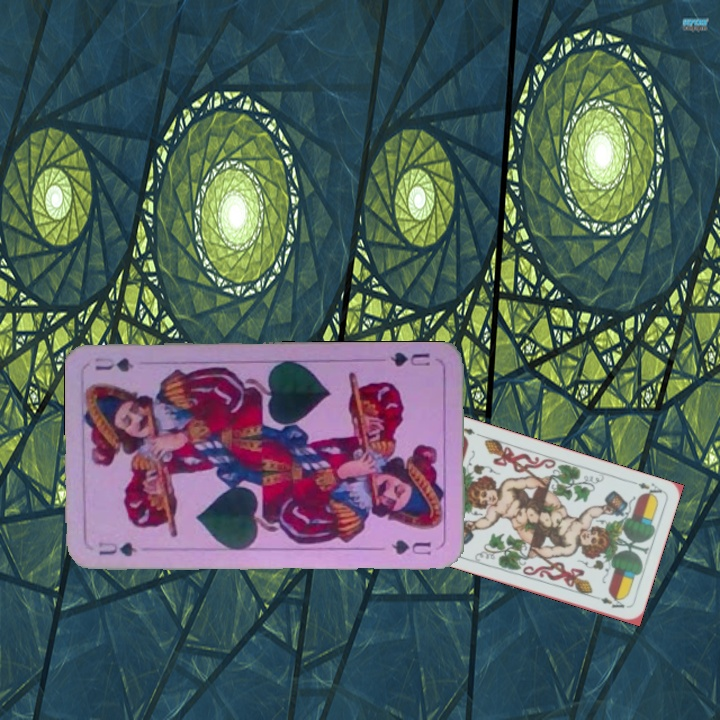EA: (625, 476, 665, 500)
GU: (95, 538, 140, 560), (386, 348, 432, 369)
